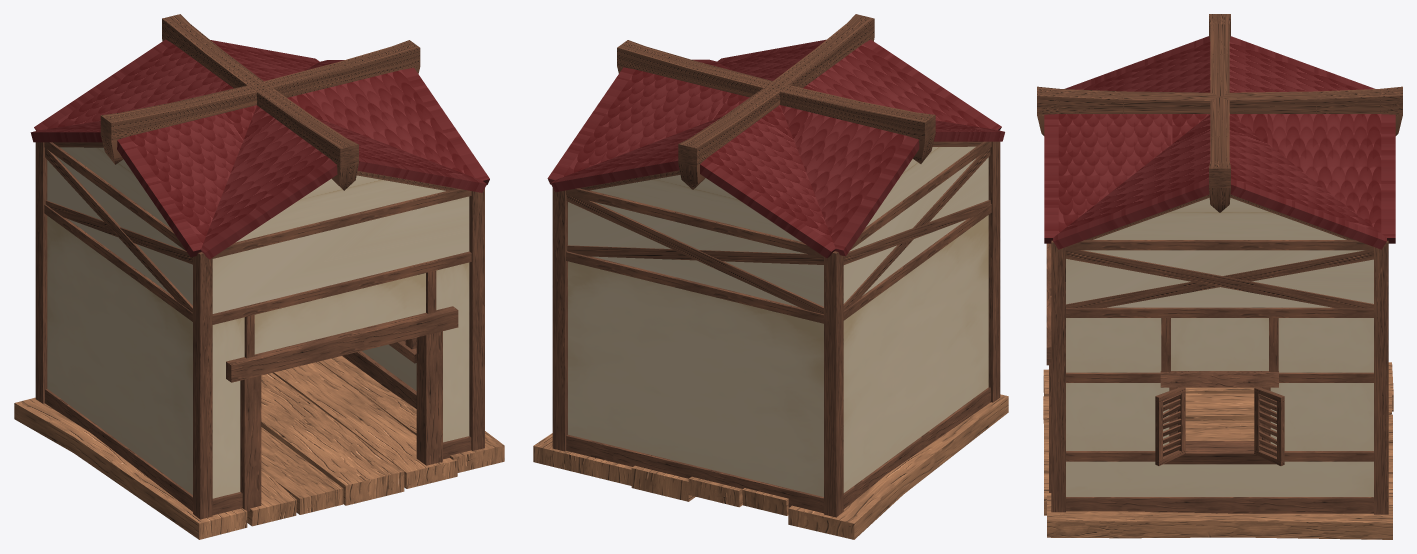
The model's file is Shed_Final_Reverse-FBX.fbx.
3 renders of one model, left to right at view 1: azimuth 30°, elevation 25°; view 2: azimuth 150°, elevation 25°; view 3: azimuth 270°, elevation 25°, orthographic. The views are drawn at different scales.
Parts seen in each view (by area): view 1: pCube3540; view 2: pCube3540; view 3: pCube3540.
Boxes of the visible parts, x1,y1,x2,y2 form: pCube3540: (14, 14, 504, 539); pCube3540: (533, 14, 1008, 539); pCube3540: (1037, 14, 1402, 539).
Size of the model in its own units: 735 by 761 by 681.
